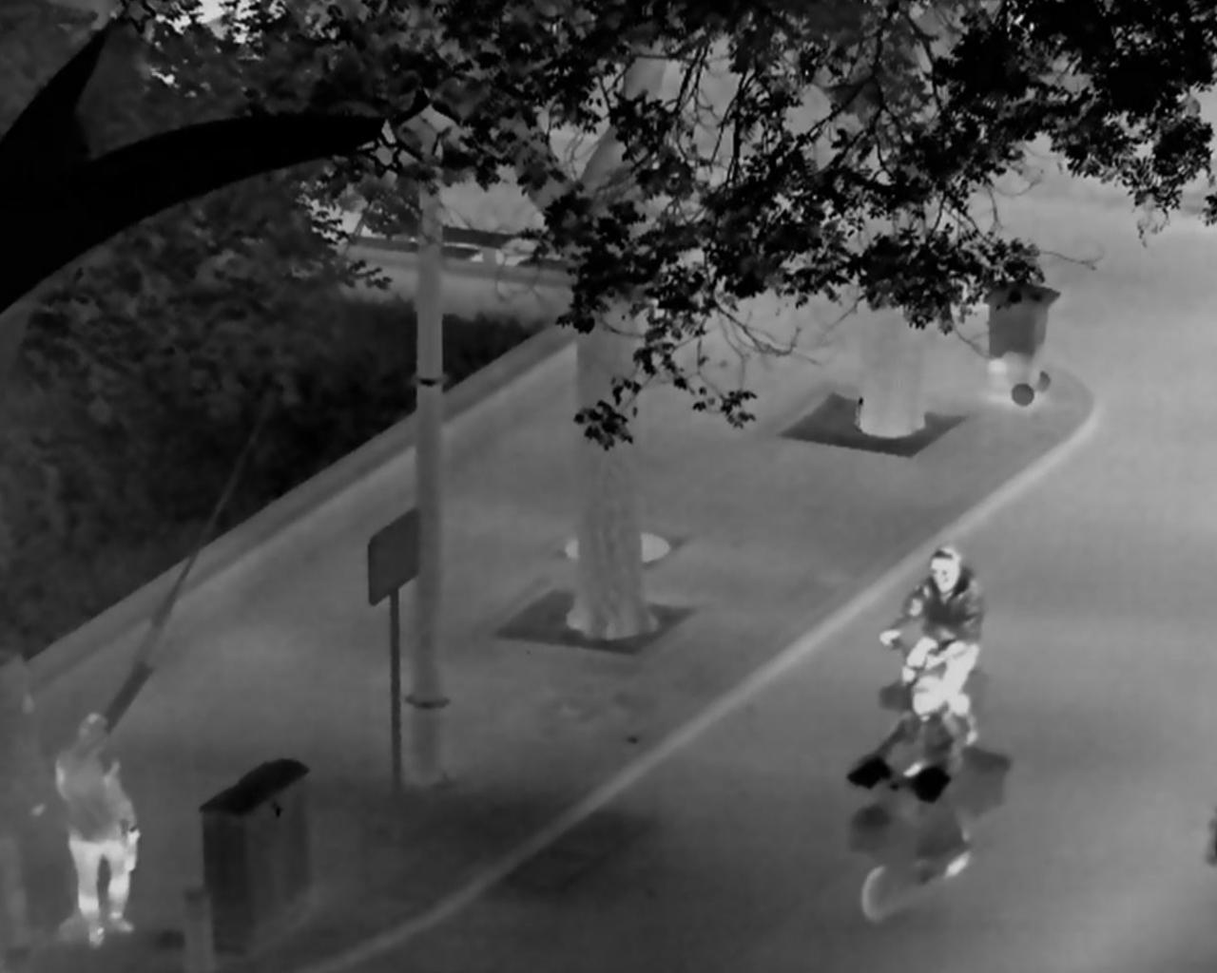person: (848, 675, 969, 874), (53, 712, 139, 948), (880, 544, 982, 742)
